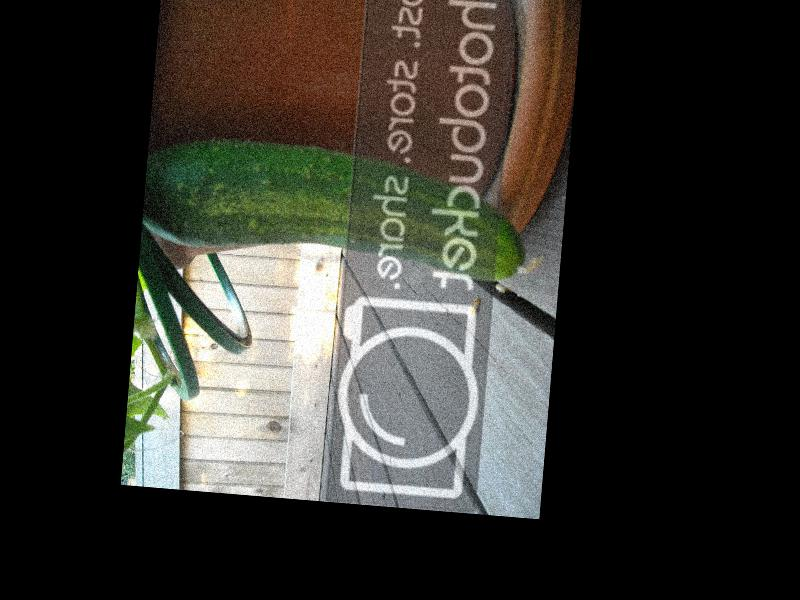Cucumber: (144, 132, 549, 285)
